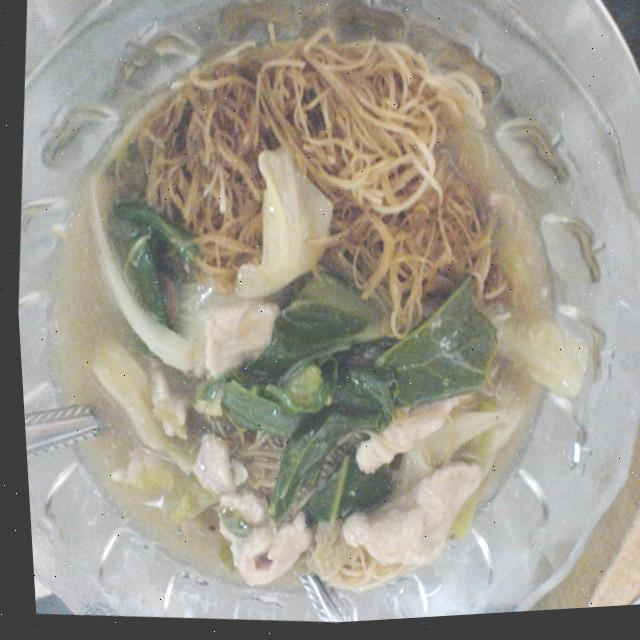面条主食: (20, 11, 604, 627)
